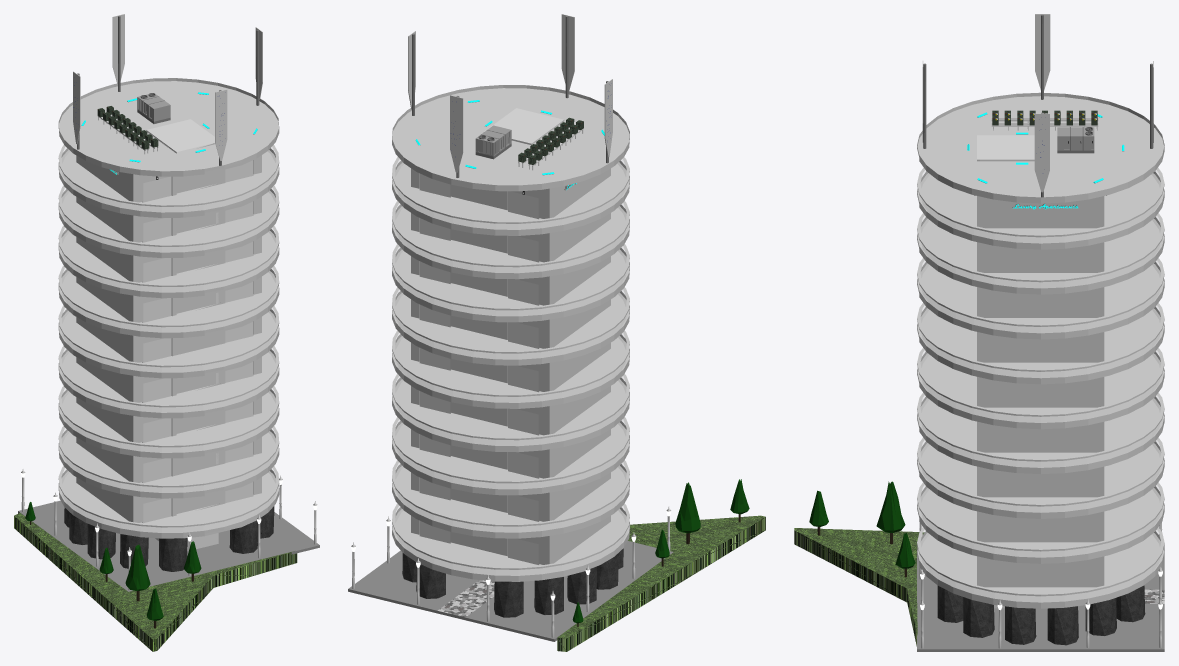
Rendered from Luxury Apartments.glb.
3 renders of one model, left to right at view 1: azimuth 30°, elevation 25°; view 2: azimuth 150°, elevation 25°; view 3: azimuth 270°, elevation 25°, orthographic. The views are drawn at different scales.
Visible parts, largest first — view 1: Layers, Sliding Glass Doors, Undeveloped Land.001, Ground, Floor.001, Supports, Floor, Banner, Ext Walls, Leaves, CU, LightPosts (+3 smaller); view 2: Layers, Sliding Glass Doors, Ground, Undeveloped Land.001, Floor.001, Supports, Floor, Banner, Ext Walls, Leaves, CU, LightPosts (+2 smaller); view 3: Layers, Ground, Floor.001, Supports, Undeveloped Land.001, Floor, Ext Walls, Banner, Leaves, CU, RTU HP, LightPosts (+1 smaller).
Part boxes in pixels (x1=…): Layers: x1=58, y1=78, x2=279, y2=498; Sliding Glass Doors: x1=142, y1=160, x2=253, y2=523; Undeveloped Land.001: x1=14, y1=513, x2=297, y2=651; Ground: x1=18, y1=500, x2=319, y2=591; Floor.001: x1=58, y1=471, x2=279, y2=538; Supports: x1=64, y1=506, x2=274, y2=571; Floor: x1=58, y1=466, x2=279, y2=535; Banner: x1=73, y1=14, x2=262, y2=160; Ext Walls: x1=76, y1=477, x2=261, y2=522; Leaves: x1=25, y1=502, x2=201, y2=620; CU: x1=97, y1=106, x2=158, y2=154; LightPosts: x1=21, y1=469, x2=317, y2=590; Layers: x1=392, y1=85, x2=629, y2=538; Sliding Glass Doors: x1=419, y1=173, x2=539, y2=564; Ground: x1=348, y1=541, x2=673, y2=641; Undeveloped Land.001: x1=557, y1=515, x2=765, y2=651; Floor.001: x1=392, y1=509, x2=629, y2=581; Supports: x1=402, y1=548, x2=623, y2=617; Floor: x1=392, y1=503, x2=629, y2=579; Banner: x1=408, y1=14, x2=612, y2=172; Ext Walls: x1=411, y1=515, x2=610, y2=564; Leaves: x1=572, y1=479, x2=749, y2=623; CU: x1=518, y1=117, x2=583, y2=170; LightPosts: x1=351, y1=506, x2=671, y2=637; Layers: x1=917, y1=92, x2=1164, y2=563; Ground: x1=917, y1=545, x2=1164, y2=651; Floor.001: x1=919, y1=533, x2=1164, y2=608; Supports: x1=937, y1=585, x2=1145, y2=645; Undeveloped Land.001: x1=794, y1=528, x2=924, y2=646; Floor: x1=917, y1=527, x2=1164, y2=605; Ext Walls: x1=977, y1=556, x2=1104, y2=587; Banner: x1=922, y1=14, x2=1153, y2=192; Leaves: x1=809, y1=481, x2=915, y2=568; CU: x1=991, y1=110, x2=1098, y2=130; RTU HP: x1=1057, y1=127, x2=1094, y2=153; LightPosts: x1=919, y1=522, x2=1162, y2=648.
Size of the model in its own units: 28.27 by 59.42 by 36.47.
25 materials, 3 textured.
